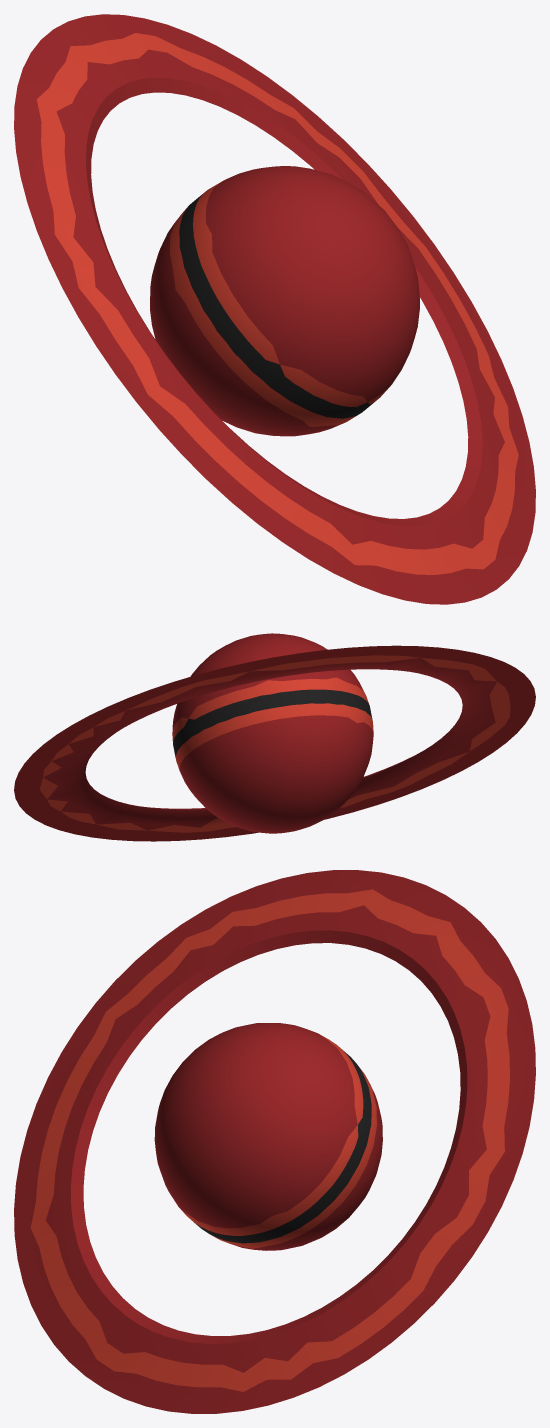
The model's file is Planet_10.gltf.
3 renders of one model, top to bottom at view 1: azimuth 30°, elevation 25°; view 2: azimuth 150°, elevation 25°; view 3: azimuth 270°, elevation 25°, orthographic. The views are drawn at different scales.
Visible parts, largest first — view 1: Planet_10; view 2: Planet_10; view 3: Planet_10.
Boxes of the visible parts, x1,y1,x2,y2 form: Planet_10: (14, 14, 535, 604); Planet_10: (14, 633, 535, 841); Planet_10: (14, 870, 535, 1413).
Size of the model in its own units: 5.74 by 4.68 by 5.74.
Materials: 1 (1 with a texture image).
